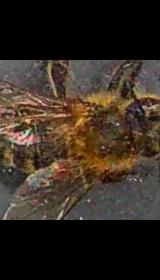varroa_mite: (48, 156, 67, 189)
